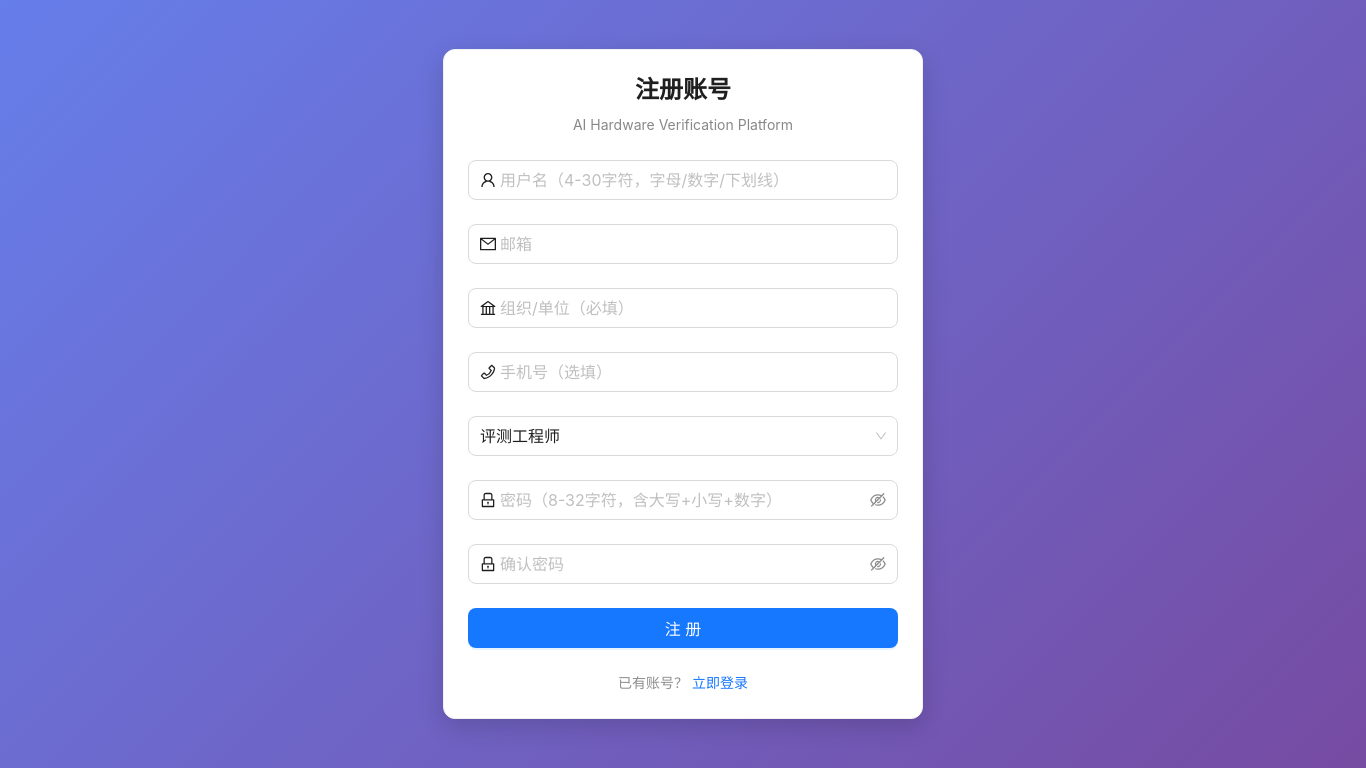
Test: Register Page › shows validation for empty username
Click the button "注 册" at (683, 628), box [468,608,898,648]
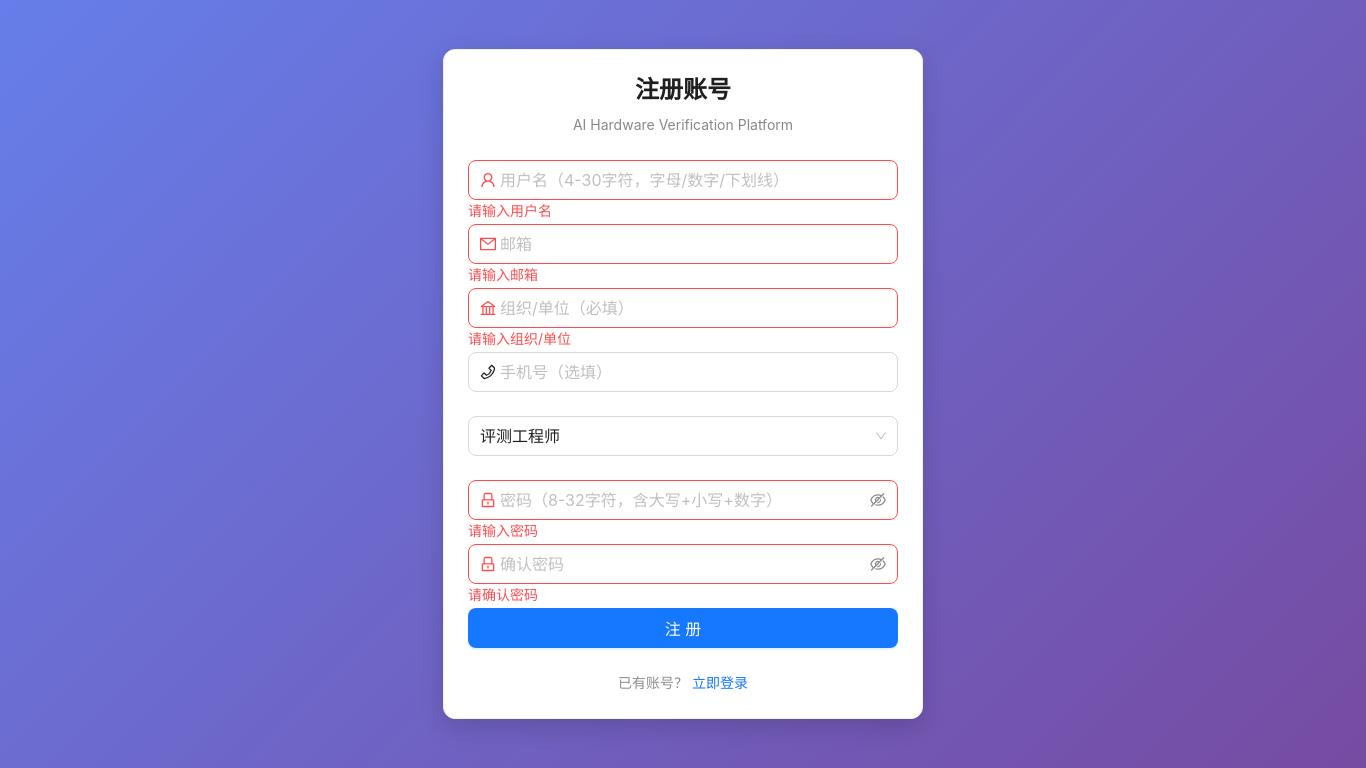
Expected: the text "请输入用户名" is shown, [468,202,552,219]
